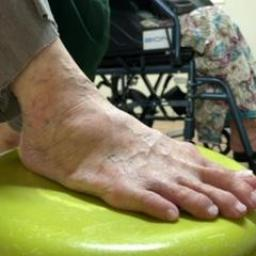Lateral View -Right Foot-: (8, 34, 255, 243)
